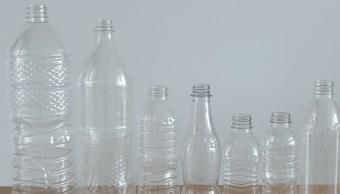bottle: (8, 5, 76, 194), (77, 19, 136, 194), (135, 83, 182, 192), (181, 80, 224, 192), (302, 75, 340, 194), (224, 109, 265, 194), (261, 109, 302, 194)
